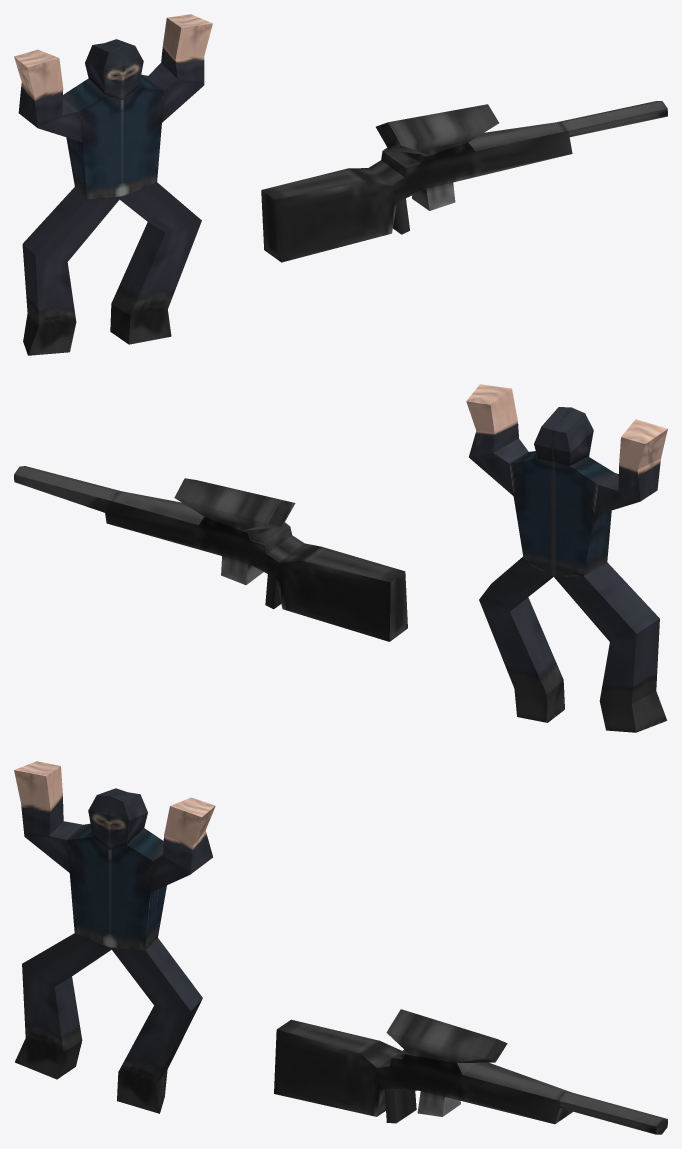
File: GarbageEnemySniper_2items.fbx
3 renders of one model, top to bottom at view 1: azimuth 30°, elevation 25°; view 2: azimuth 150°, elevation 25°; view 3: azimuth 330°, elevation 25°, orthographic.
Parts seen in each view (by area): view 1: SNIPER1, SNIPER_RIFLE1; view 2: SNIPER1, SNIPER_RIFLE1; view 3: SNIPER1, SNIPER_RIFLE1.
Boxes of the visible parts, x1,y1,x2,y2 form: SNIPER1: (14, 14, 212, 355); SNIPER_RIFLE1: (261, 101, 667, 262); SNIPER1: (466, 384, 667, 732); SNIPER_RIFLE1: (14, 466, 407, 641); SNIPER1: (14, 761, 215, 1113); SNIPER_RIFLE1: (274, 1009, 667, 1134).
Size of what is drawn, in the model's own units: 31.51 by 14.47 by 2.48.
